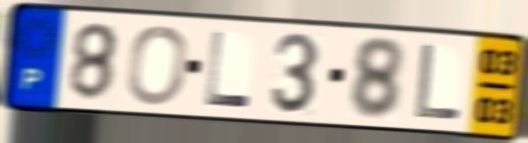3: (268, 30, 325, 117)
8: (348, 34, 407, 123), (66, 19, 122, 103)
L: (412, 42, 464, 123), (203, 29, 254, 111)
O: (124, 23, 191, 107)
